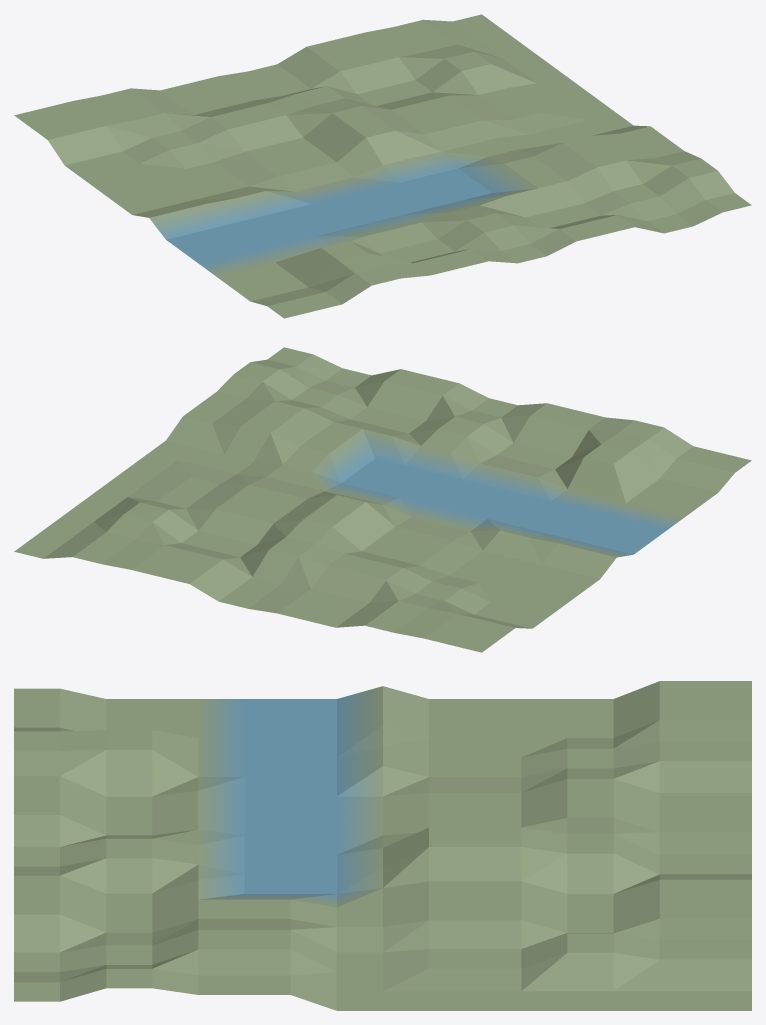
3 renders of one model, top to bottom at view 1: azimuth 30°, elevation 25°; view 2: azimuth 150°, elevation 25°; view 3: azimuth 270°, elevation 25°, orthographic. The views are drawn at different scales.
Size of the model in its own units: 32 by 1.32 by 32.
